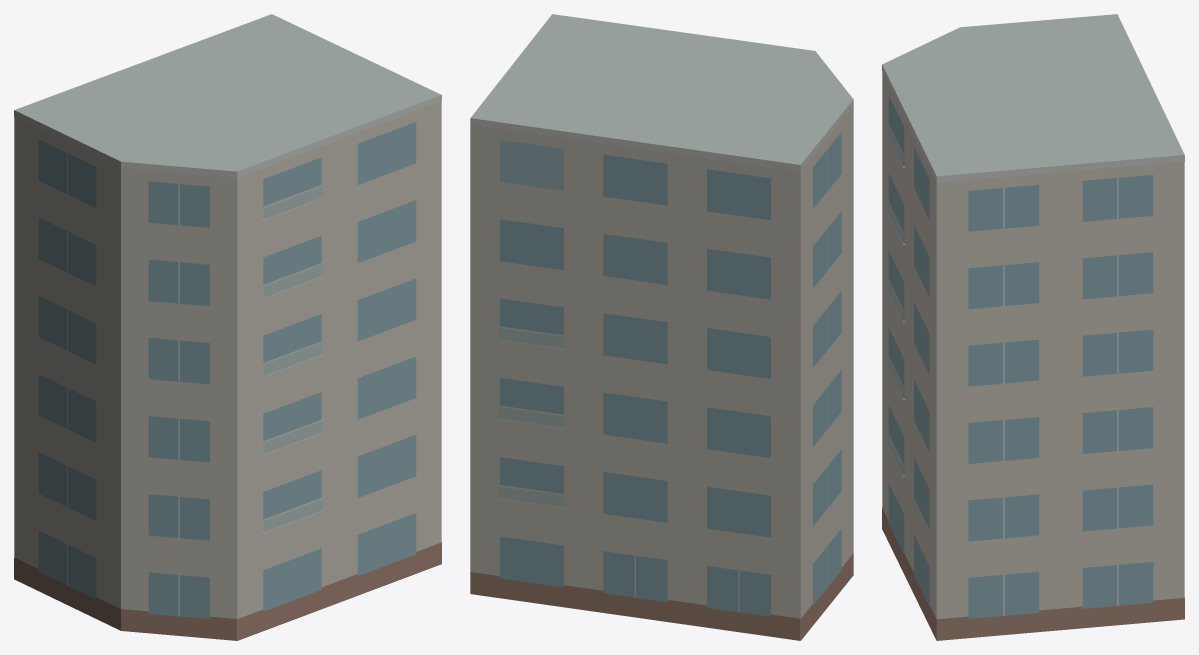
File: survey-upis-33012799.glb
3 renders of one model, left to right at view 1: azimuth 30°, elevation 25°; view 2: azimuth 150°, elevation 25°; view 3: azimuth 270°, elevation 25°, orthographic. The views are drawn at different scales.
Visible parts, largest first — view 1: survey-upis-33012799.tmp; view 2: survey-upis-33012799.tmp; view 3: survey-upis-33012799.tmp.
Part boxes in pixels (x1,y1,x2,y2): survey-upis-33012799.tmp: (14,14,441,640); survey-upis-33012799.tmp: (470,14,853,640); survey-upis-33012799.tmp: (882,14,1184,640).
Bounding box in the file's own units: 13.21 × 17.6 × 10.41.
